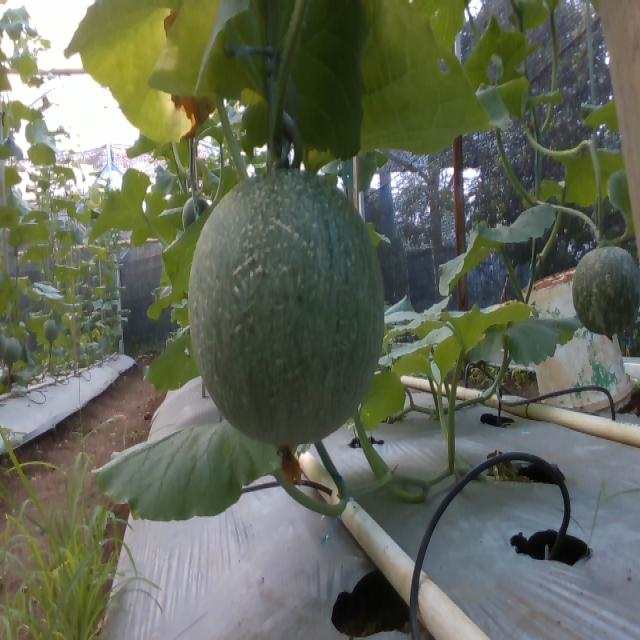melon: (189, 169, 384, 447)
